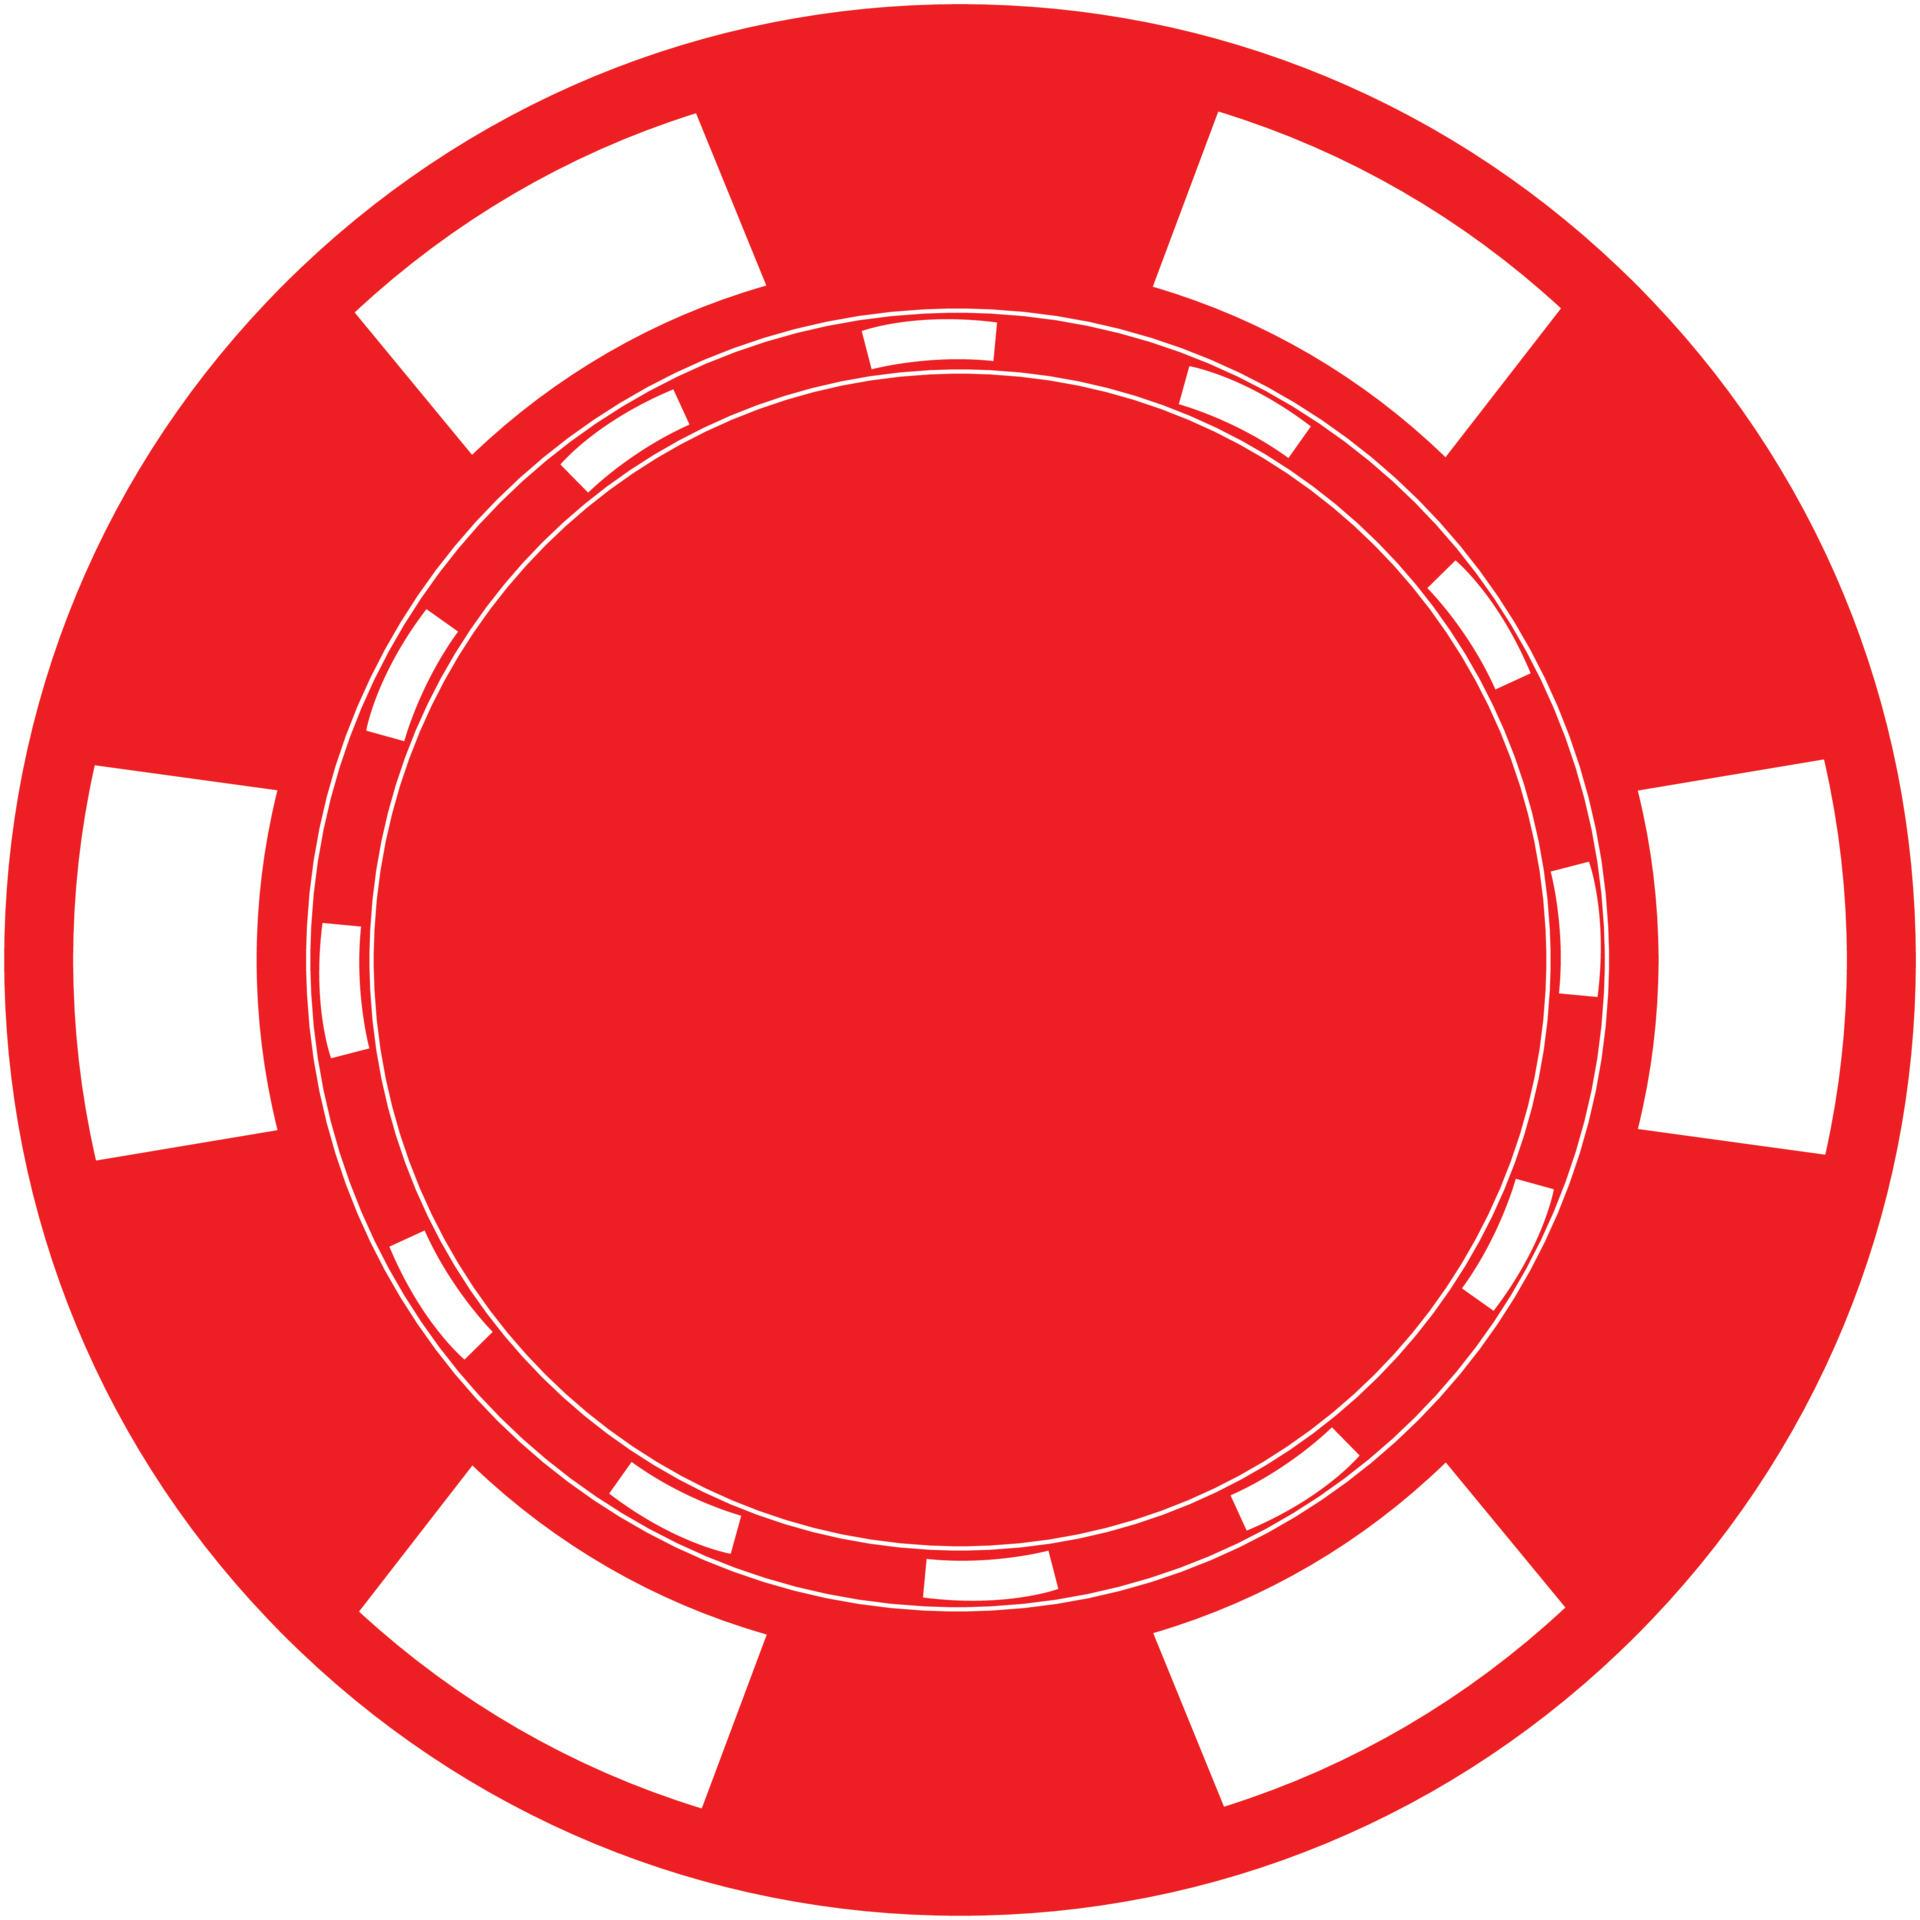chip-red: (7, 7, 1913, 1913)
